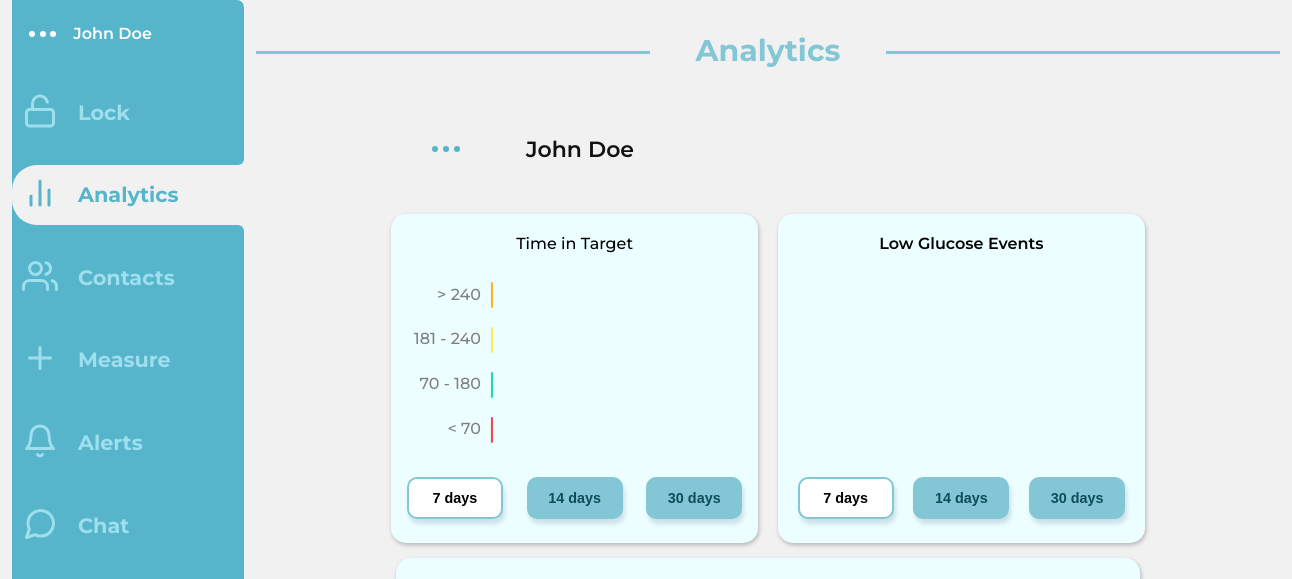
Inspecting chat page
Click the link with test id "chat-navigation-button" at (71, 525), box [12, 496, 129, 555]
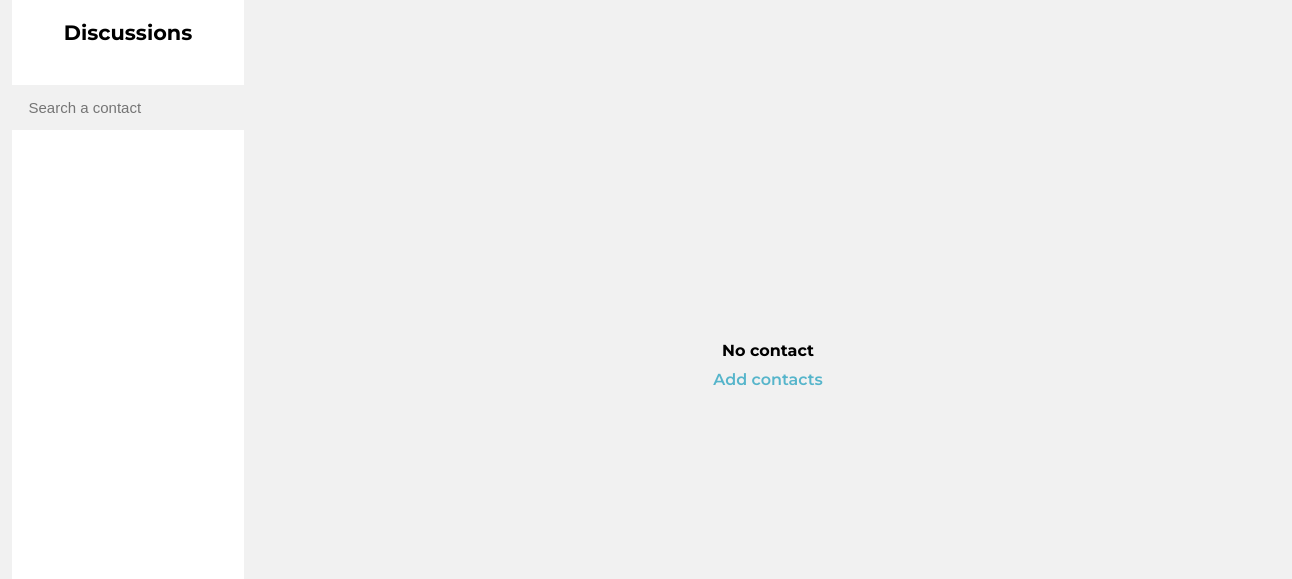
Now the element with test id "auth-chat-page" is shown, box [713, 341, 823, 389]
